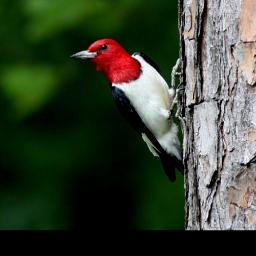Woodpecker: (67, 38, 191, 181)
